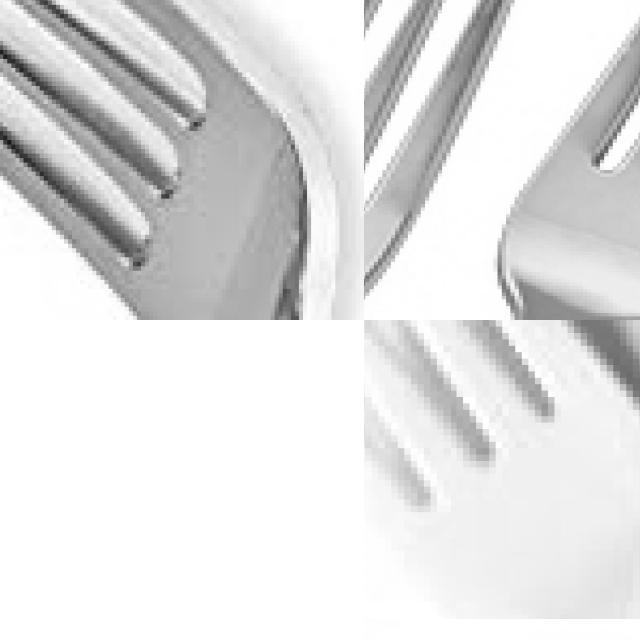forks: (0, 0, 364, 320), (364, 320, 640, 604)
